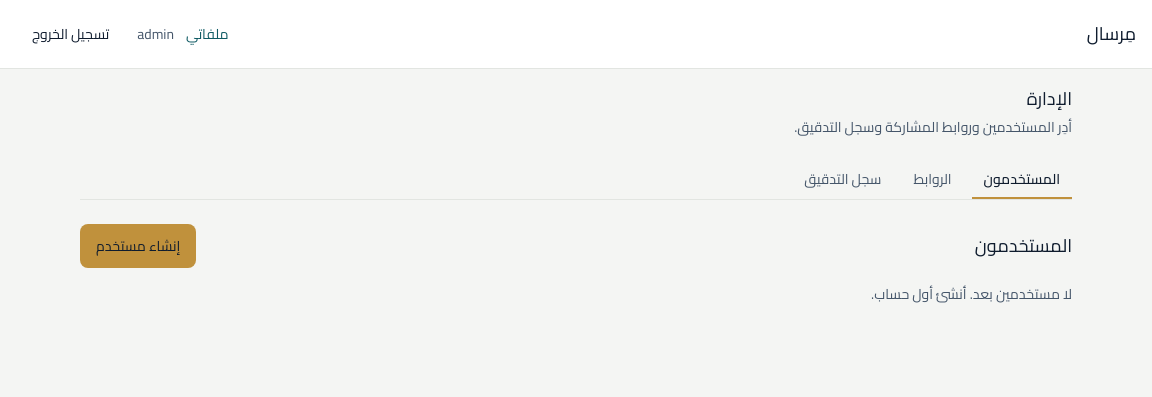
Test: Admin — AuditLog (§3.1) › renders audit rows read-only with a Damascus timestamp and a redacted secret target
Step 1. Click the tab "سجل التدقيق" → (843, 180), box [792,161,894,199]
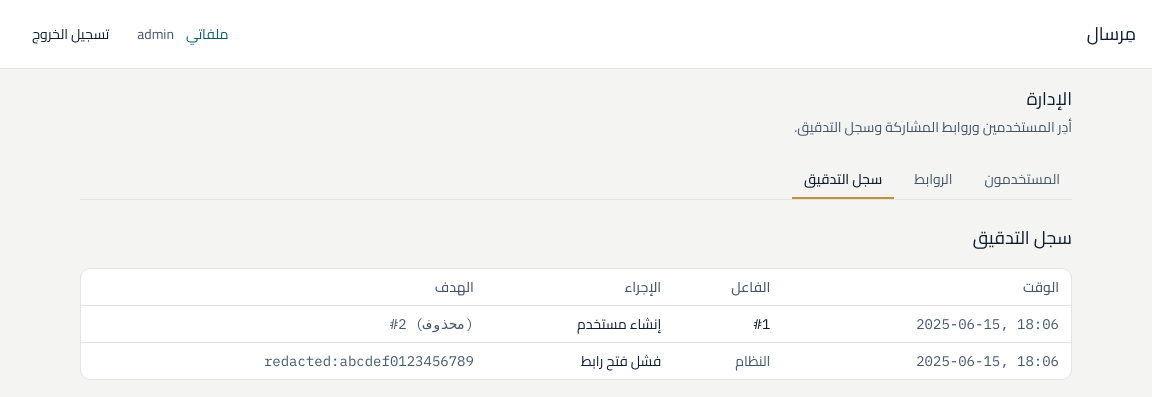
Expected: the text "إنشاء مستخدم" is shown, [486,306,673,342]
Now the text "redacted:abcdef0123456789" is shown, box [264,352,474,370]
Now the text "النظام" is shown, box [735,348,770,374]
